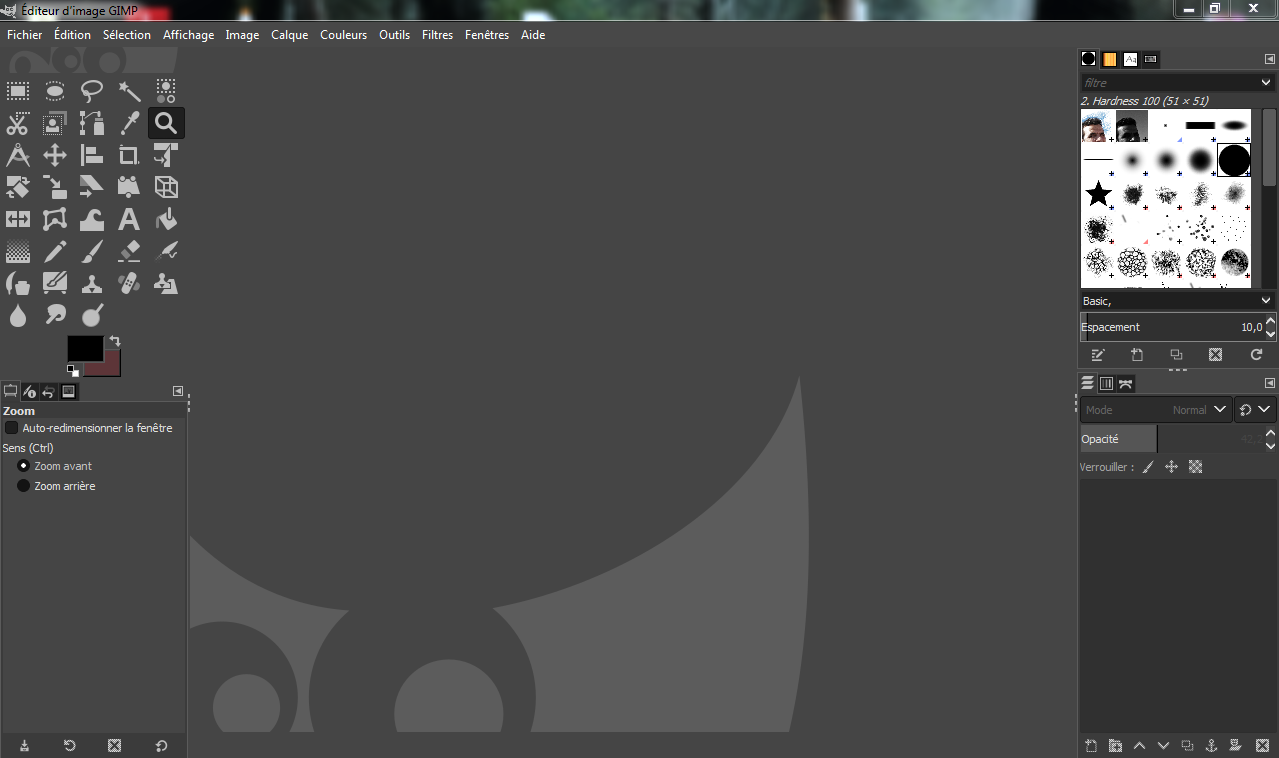button: (1081, 427, 1278, 452), (1082, 427, 1264, 451), (315, 21, 373, 46), (156, 23, 218, 46), (146, 233, 184, 270), (36, 234, 75, 268), (1261, 109, 1278, 187), (36, 300, 76, 333), (97, 23, 156, 45), (460, 23, 514, 47), (109, 234, 146, 269), (1080, 176, 1117, 211), (66, 333, 106, 364), (112, 107, 148, 141), (1080, 142, 1116, 176), (1081, 211, 1117, 245), (1, 108, 38, 141), (147, 202, 186, 233), (150, 108, 185, 142), (1149, 142, 1183, 177), (1183, 142, 1217, 177), (1217, 142, 1251, 177), (1117, 176, 1151, 211), (1184, 177, 1218, 212), (1081, 245, 1116, 279), (1185, 245, 1220, 279), (1, 141, 38, 173), (38, 140, 75, 172), (266, 23, 315, 47), (1117, 211, 1151, 245), (1185, 211, 1219, 245), (1117, 245, 1151, 279), (1151, 176, 1184, 211), (1218, 177, 1251, 212), (42, 734, 90, 758), (36, 270, 77, 298), (75, 235, 108, 269), (75, 300, 109, 333), (1116, 142, 1149, 176), (1152, 211, 1185, 245), (1152, 245, 1185, 279), (1080, 110, 1115, 142), (1216, 110, 1251, 142), (38, 108, 74, 139), (76, 141, 112, 172), (113, 141, 149, 172), (1, 173, 38, 203), (37, 203, 74, 233), (109, 203, 146, 233), (38, 173, 76, 202), (138, 736, 188, 758), (146, 271, 185, 299), (1234, 397, 1276, 423), (1, 235, 34, 268), (1219, 211, 1251, 245), (1, 269, 36, 300), (1, 301, 36, 332), (218, 23, 265, 46), (415, 22, 458, 47), (91, 735, 137, 758), (76, 107, 108, 140), (1182, 110, 1215, 142), (1233, 344, 1277, 368), (1148, 111, 1182, 142), (1220, 245, 1251, 279), (149, 141, 184, 171), (148, 173, 185, 201), (109, 270, 146, 298), (1, 23, 48, 45), (1116, 110, 1148, 142), (49, 23, 95, 45), (373, 22, 415, 46), (112, 173, 148, 201), (77, 172, 110, 202), (1, 204, 35, 233), (1, 734, 42, 758), (76, 203, 108, 233), (1155, 344, 1195, 368), (76, 270, 109, 299), (1230, 1, 1279, 20), (114, 77, 147, 105), (37, 79, 72, 105), (515, 22, 551, 47), (1078, 345, 1117, 368), (1196, 344, 1232, 368), (1, 78, 34, 104), (1117, 345, 1154, 368), (76, 79, 108, 105), (151, 78, 181, 105), (83, 363, 123, 379), (1209, 397, 1233, 423), (1173, 1, 1203, 20), (1202, 1, 1230, 20), (1159, 458, 1184, 477), (1079, 737, 1103, 756), (1127, 737, 1151, 756), (1077, 49, 1099, 69), (1184, 458, 1207, 477), (1174, 737, 1198, 755), (1100, 49, 1121, 69), (1078, 372, 1098, 393), (1104, 737, 1126, 756), (1199, 737, 1222, 755), (1122, 49, 1141, 70), (1142, 49, 1161, 70), (1152, 737, 1174, 755), (1223, 737, 1244, 755), (59, 383, 79, 401), (1138, 459, 1158, 477), (64, 361, 83, 379), (39, 383, 58, 401), (1117, 374, 1135, 393), (20, 382, 38, 400), (1254, 736, 1272, 754), (1, 1, 18, 20), (1099, 374, 1116, 393), (1259, 72, 1274, 93), (1, 381, 18, 398), (105, 334, 123, 349), (3, 419, 18, 435), (1260, 292, 1274, 309), (15, 457, 30, 471), (15, 478, 30, 492), (1263, 377, 1277, 390), (171, 385, 185, 397), (1265, 327, 1276, 342), (1264, 52, 1276, 65), (1265, 313, 1277, 326), (1265, 438, 1276, 452), (1265, 426, 1276, 437)
common: (1080, 312, 1266, 341), (1080, 397, 1209, 422), (21, 421, 176, 433), (1078, 460, 1136, 475), (34, 480, 97, 492), (32, 459, 92, 471)
container: (1, 1, 1279, 758), (1, 47, 1279, 758), (1076, 47, 1279, 758), (1, 49, 186, 758), (1, 402, 186, 735), (1, 49, 184, 382), (1077, 478, 1279, 757), (1078, 109, 1279, 289), (1, 22, 1279, 48), (1, 1, 1279, 20), (1079, 312, 1279, 342), (1077, 733, 1278, 758), (1079, 345, 1279, 369), (1078, 455, 1279, 478), (1077, 371, 1278, 393), (1, 735, 187, 758), (1080, 396, 1233, 423), (1077, 49, 1279, 69), (1080, 73, 1276, 93), (1, 417, 180, 438), (1079, 292, 1276, 309), (1, 384, 185, 400), (15, 478, 99, 494), (16, 458, 94, 474)
header: (20, 1, 142, 21), (1079, 95, 1210, 109), (1, 442, 56, 456), (1, 404, 37, 417)
image: (186, 49, 1074, 758), (1, 49, 178, 74)
text-input: (1079, 73, 1259, 92), (1079, 292, 1259, 309)
